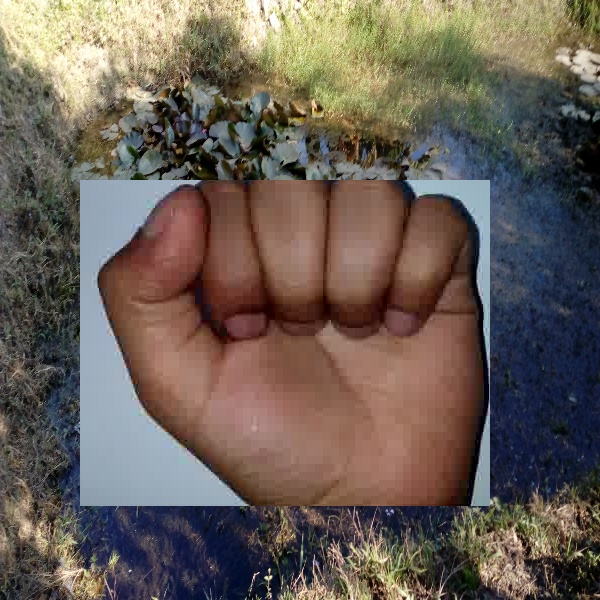A: (80, 180, 490, 506)
